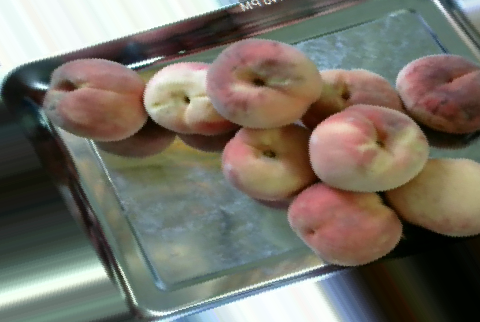Peach: (308, 103, 426, 191), (209, 39, 321, 127), (288, 181, 404, 262), (45, 57, 148, 142), (220, 118, 318, 203), (138, 60, 242, 139), (396, 53, 480, 138), (393, 153, 475, 236)
